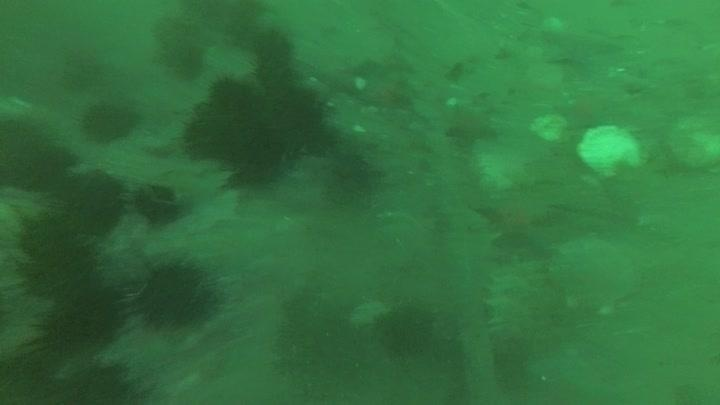echinus: (32, 278, 126, 356), (132, 255, 222, 331), (16, 227, 101, 302), (1, 111, 76, 194), (246, 79, 328, 147), (56, 168, 128, 237), (181, 100, 253, 165), (230, 131, 293, 193), (375, 300, 438, 357), (249, 26, 298, 88), (78, 97, 140, 144), (134, 182, 184, 227), (206, 74, 258, 117), (161, 40, 208, 82)
holothurian: (482, 268, 535, 389)
scallop: (576, 123, 644, 179), (665, 113, 720, 173)
starfish: (547, 232, 643, 307), (472, 187, 560, 257), (539, 20, 625, 69), (435, 103, 499, 144)
